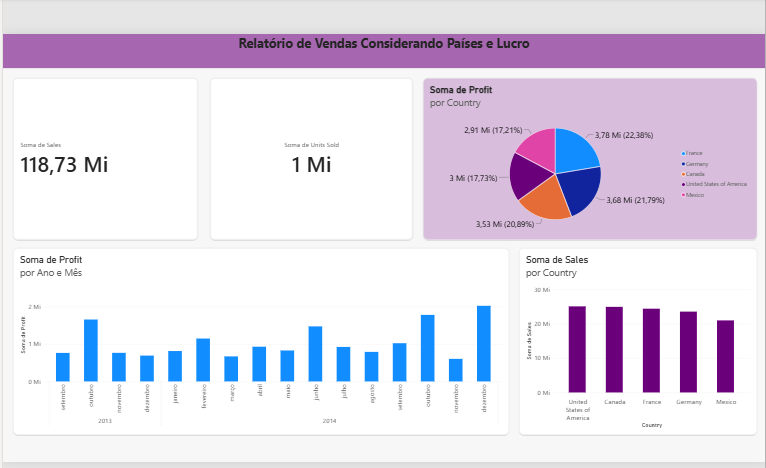

Layout of this report page (visuals, bound fields, positions):
{"tool":"powerbi","page":{"name":"Página 2","canvas":[1920,1080],"ordinal":1},"visuals":[{"type":"cardVisual","fields":{"Data":["Sum(financials. Sales)"]},"box":[25.2,110.9,466.1,408.2],"z":0},{"type":"cardVisual","fields":{"Data":["Sum(financials.Units Sold)"]},"box":[521.6,110.9,511.5,408.2],"z":1},{"type":"pieChart","fields":{"Category":["financials.Country"],"Y":["Sum(financials.Profit)"]},"box":[1058.3,110.9,841.6,408.2],"z":2},{"type":"clusteredColumnChart","fields":{"Category":["financials.Date.Variation.Hierarquia de datas.Ano","financials.Date.Variation.Hierarquia de datas.Mês","financials.Date.Variation.Hierarquia de datas.Dia"],"Y":["Sum(financials.Profit)"]},"box":[25.2,539.2,1249.8,471.2],"z":3},{"type":"clusteredColumnChart","fields":{"Category":["financials.Country"],"Y":["Sum(financials. Sales)"]},"box":[1300.2,539.2,600,471],"z":4},{"type":"textbox","box":[0,0,1920,85.7],"z":5}]}

Visuals, with their boxes on the page's 1920x1080 design canvas (x1, y1, x2, y2). These are canvas units, not pixel positions in the 766x468 screenshot, which may show the page scaled, cropped or inside an application window:
cardVisual - Sum(financials. Sales): x1=25, y1=111, x2=491, y2=519
cardVisual - Sum(financials.Units Sold): x1=522, y1=111, x2=1033, y2=519
pieChart - financials.Country x Sum(financials.Profit): x1=1058, y1=111, x2=1900, y2=519
clusteredColumnChart - financials.Date.Variation.Hierarquia de datas.Ano x financials.Date.Variation.Hierarquia de datas.Mês: x1=25, y1=539, x2=1275, y2=1010
clusteredColumnChart - financials.Country x Sum(financials. Sales): x1=1300, y1=539, x2=1900, y2=1010
textbox: x1=0, y1=0, x2=1920, y2=86
